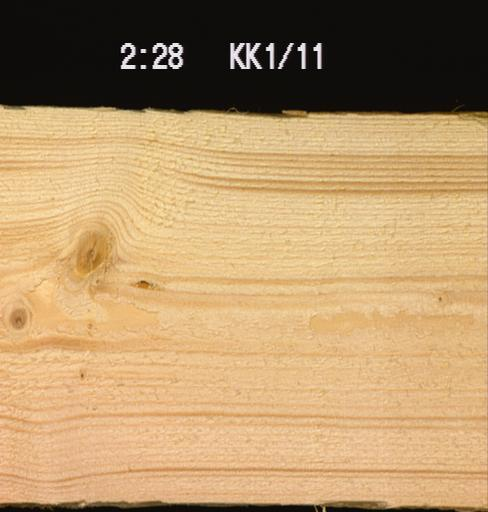sound_knot: (70, 229, 115, 276), (5, 303, 29, 330)
wave: (250, 111, 303, 121)
